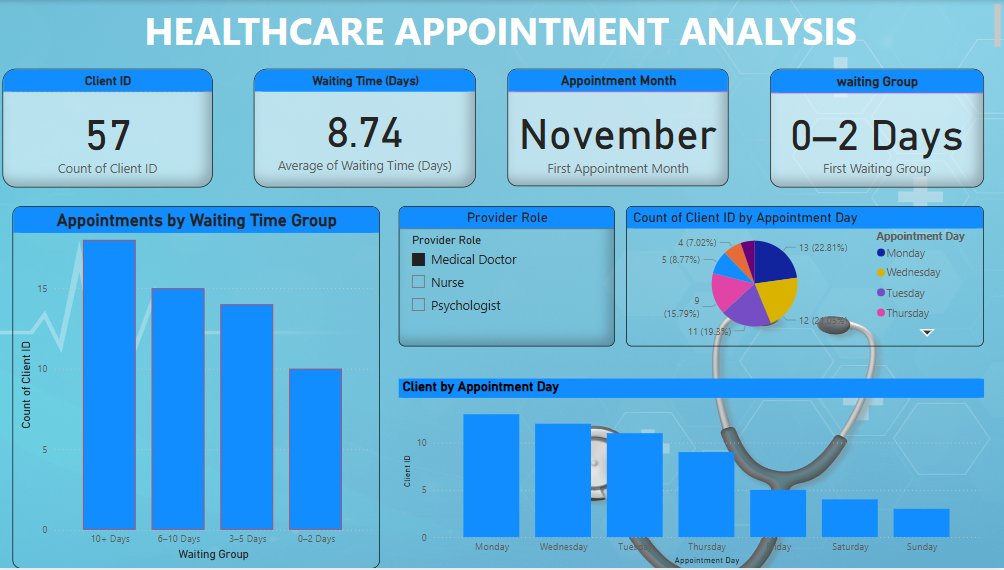

What the dashboard file says about the page in this screenshot:
{"tool":"powerbi","page":{"name":"Page 1","canvas":[1280,720],"ordinal":0},"visuals":[{"type":"textbox","box":[10.1,0,1269.6,69.3],"z":0},{"type":"clusteredColumnChart","title":"Appointments by Waiting Time Group","fields":{"Y":["CountNonNull(Appointment_Scheduling_With_WaitingGroup.Client ID)"],"Category":["Appointment_Scheduling_With_WaitingGroup.Waiting Group"]},"box":[22.2,261.3,465.6,459.3],"z":1000},{"type":"card","title":"waiting Group","fields":{"Values":["Min(Appointment_Scheduling_With_WaitingGroup.Waiting Group)"]},"box":[982,87.1,270.8,150.5],"z":2000},{"type":"card","title":"Waiting Time (Days)","fields":{"Values":["Avg(Appointment_Scheduling_With_WaitingGroup.Waiting Time (Days))"]},"box":[327.8,87.1,281.9,150.5],"z":3000},{"type":"card","title":"Client ID","fields":{"Values":["CountNonNull(Appointment_Scheduling_With_WaitingGroup.Client ID)"]},"box":[9.5,87.1,266.1,150.5],"z":4000},{"type":"card","title":"Appointment Month","fields":{"Values":["Min(Appointment_Scheduling_With_WaitingGroup.Appointment Month)"]},"box":[649.4,87.1,280.3,148.9],"z":5000},{"type":"slicer","title":"Provider Role","fields":{"Values":["Appointment_Scheduling_With_WaitingGroup.Provider Role"]},"box":[511.6,261.3,274,177.4],"z":6000},{"type":"clusteredColumnChart","title":" Client by Appointment Day","fields":{"Y":["CountNonNull(Appointment_Scheduling_With_WaitingGroup.Client ID)"],"Category":["Appointment_Scheduling_With_WaitingGroup.Appointment Day"]},"box":[511.6,479.9,741.2,240.7],"z":7000},{"type":"pieChart","fields":{"Category":["Appointment_Scheduling_With_WaitingGroup.Appointment Day"],"Y":["CountNonNull(Appointment_Scheduling_With_WaitingGroup.Client ID)"]},"box":[799.8,261.3,453,177.4],"z":8000}]}

Visuals, with their boxes in screenshot pixels (x1, y1, x2, y2), scaled from the page's 1280x720 canvas onto the 1004x570 screenshot:
textbox: l=8, t=0, r=1003, b=55
"Appointments by Waiting Time Group" clusteredColumnChart: l=17, t=207, r=383, b=569
"waiting Group" card: l=770, t=69, r=983, b=188
"Waiting Time (Days)" card: l=257, t=69, r=478, b=188
"Client ID" card: l=7, t=69, r=216, b=188
"Appointment Month" card: l=509, t=69, r=729, b=187
"Provider Role" slicer: l=401, t=207, r=616, b=347
" Client by Appointment Day" clusteredColumnChart: l=401, t=380, r=983, b=569
pieChart - Appointment_Scheduling_With_WaitingGroup.Appointment Day x CountNonNull(Appointment_Scheduling_With_WaitingGroup.Client ID): l=627, t=207, r=983, b=347
